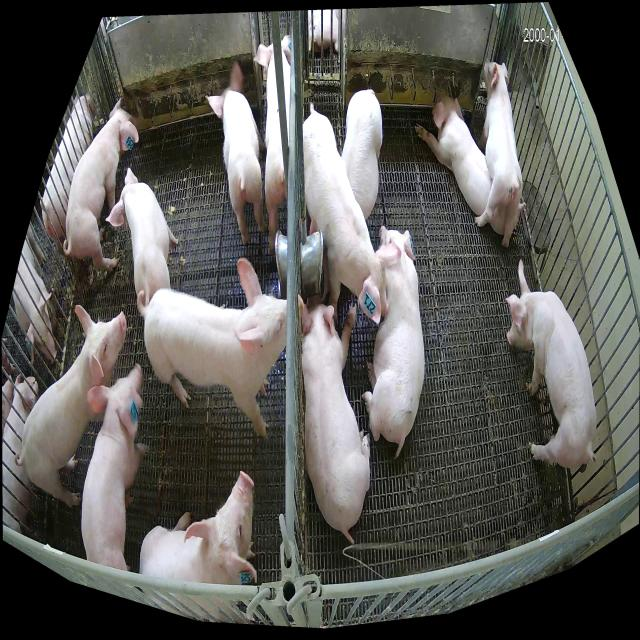pig: (138, 258, 304, 436), (15, 305, 126, 505), (303, 112, 402, 324), (505, 258, 597, 468), (415, 86, 526, 236), (302, 303, 370, 542), (361, 226, 425, 456), (139, 470, 257, 585), (81, 361, 146, 569), (64, 100, 139, 272), (206, 61, 266, 245), (105, 168, 178, 305), (476, 60, 522, 248), (253, 34, 291, 256), (342, 91, 382, 221)
